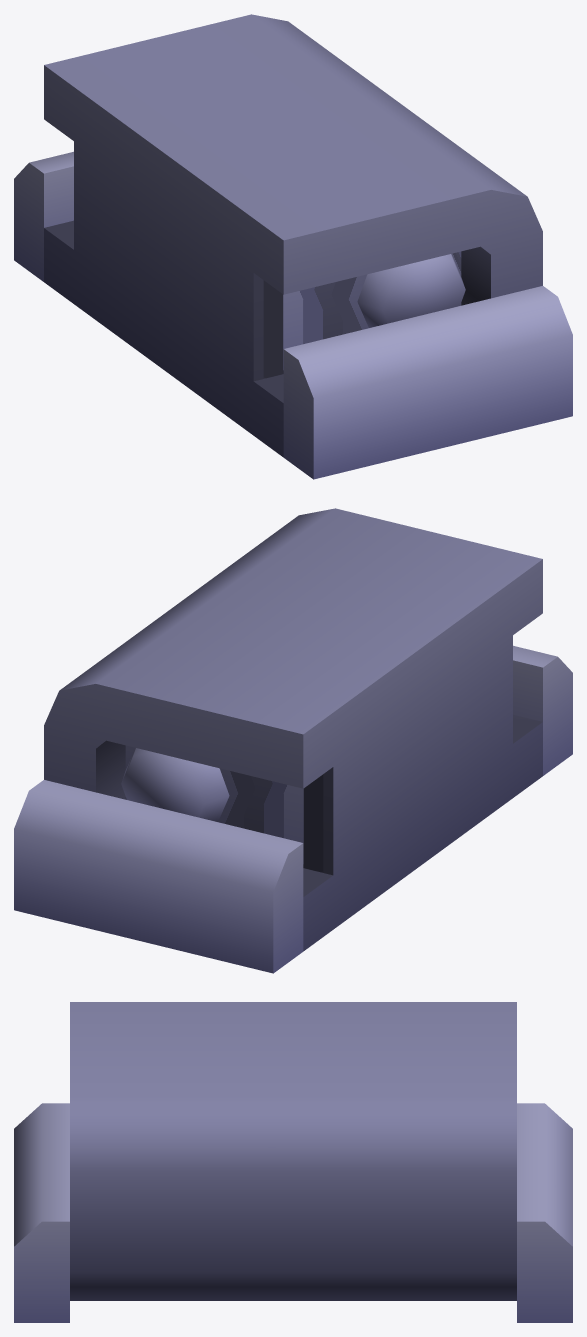
The model's file is kenney-factory-conveyor-long-sides-part-end.glb.
The picture shows the model from 3 angles, top to bottom: view 1: azimuth 30°, elevation 25°; view 2: azimuth 150°, elevation 25°; view 3: azimuth 270°, elevation 25°; orthographic projection. The views are drawn at different scales.
Parts seen in each view (by area): view 1: conveyor-long-sides-part-end; view 2: conveyor-long-sides-part-end; view 3: conveyor-long-sides-part-end.
Boxes of the visible parts, x1=… form: conveyor-long-sides-part-end: x1=14, y1=14, x2=572, y2=479; conveyor-long-sides-part-end: x1=14, y1=508, x2=572, y2=973; conveyor-long-sides-part-end: x1=14, y1=1002, x2=572, y2=1322.
Bounding box in the file's own units: 0.75 × 0.6 × 1.5.
1 material, 1 textured.
